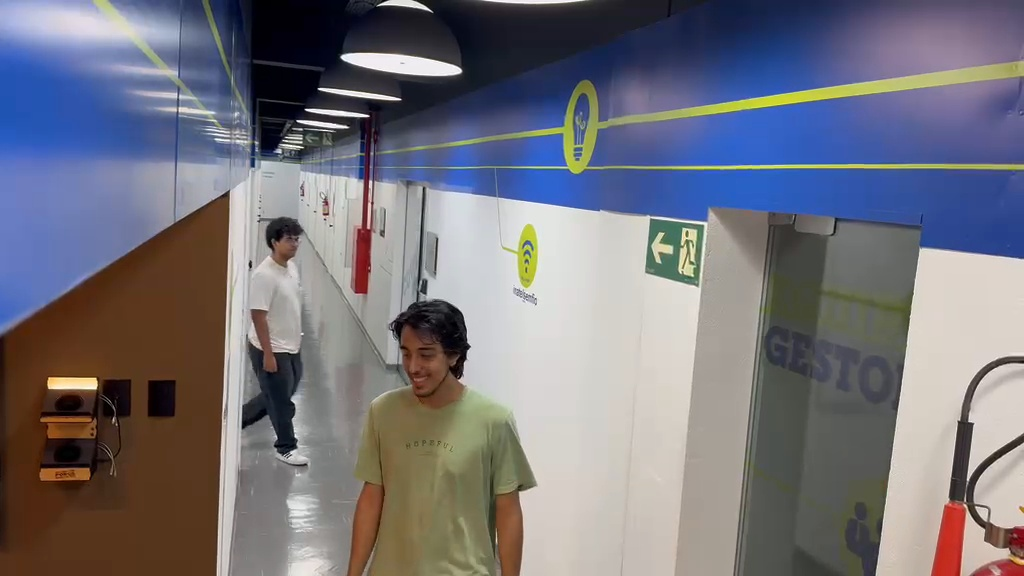person: (347, 299, 537, 574), (244, 217, 309, 461)
